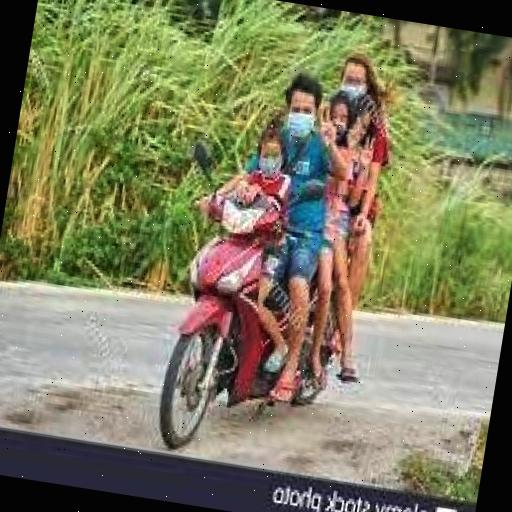no helmet: (278, 70, 332, 162)
triple riding: (143, 60, 428, 475)
